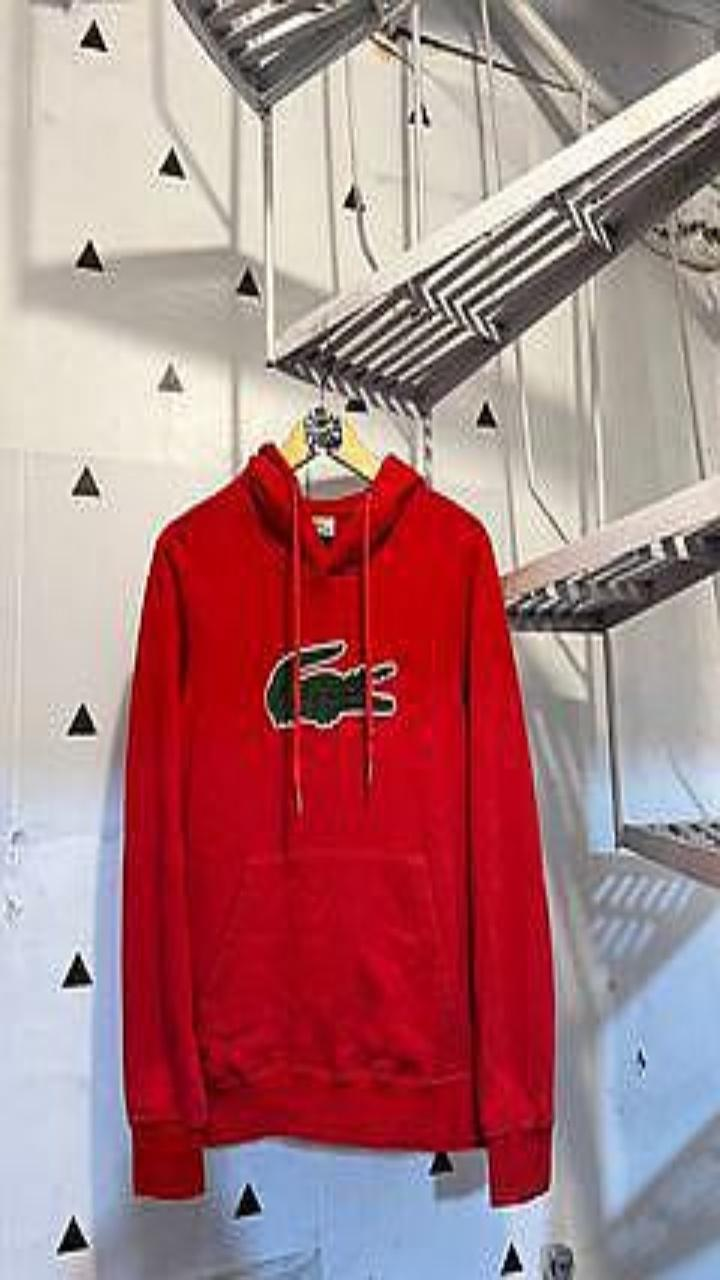Hoodie: (122, 443, 554, 1204)
